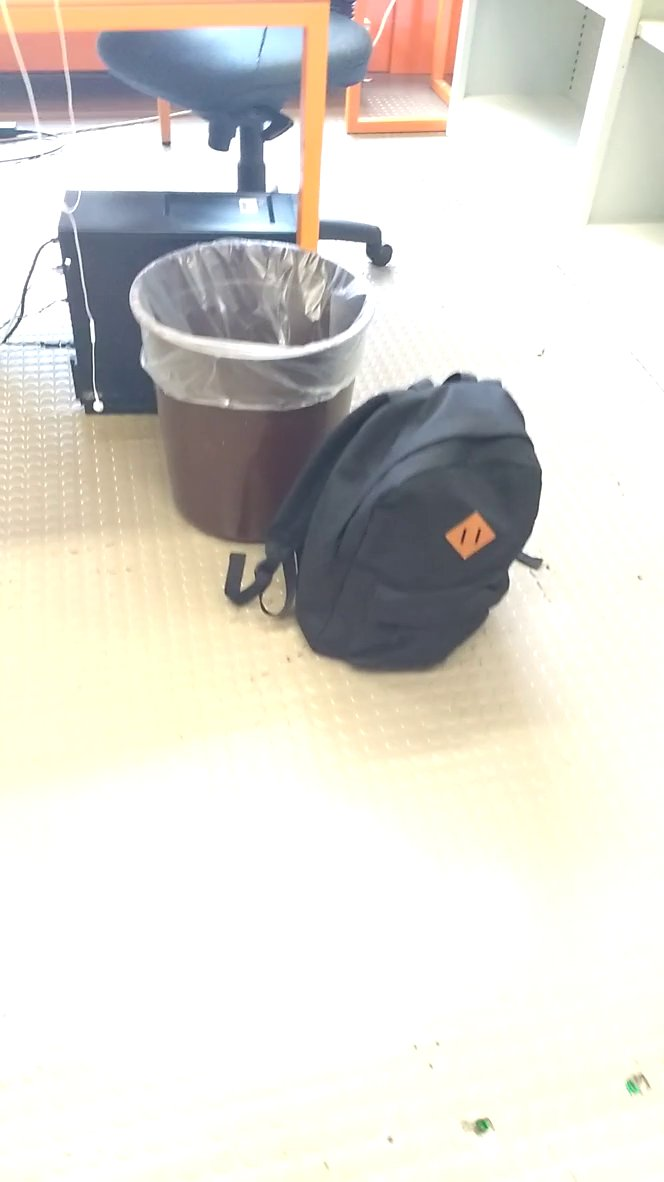bag: (220, 368, 548, 678)
bin: (123, 225, 387, 552)
chair: (99, 1, 398, 189)
